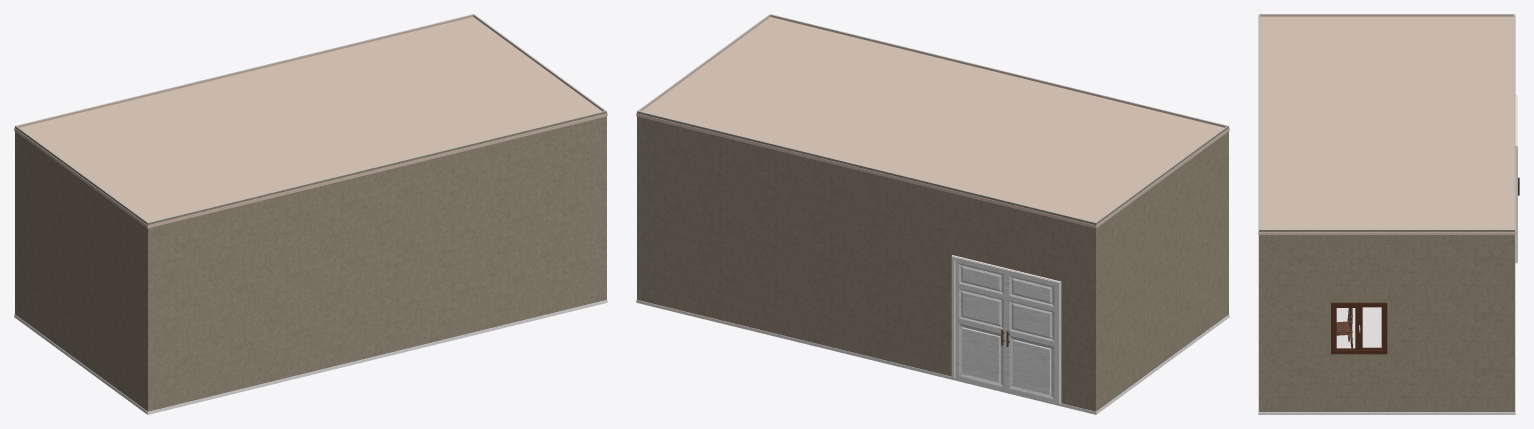
Rendered from ProcTHOR-Train-113.glb.
3 renders of one model, left to right at view 1: azimuth 30°, elevation 25°; view 2: azimuth 150°, elevation 25°; view 3: azimuth 270°, elevation 25°, orthographic. The views are drawn at different scales.
Parts seen in each view (by area): view 1: WallInside#wall|exterior|0.00|4.13|8.26|4.13, Ceiling#room|2|c, WallInside#wall|exterior|8.26|0.00|8.26|4.13, Floor#room|2|f, WallInside#wall|2|0.00|0.00|8.26|0.00; view 2: WallInside#wall|exterior|0.00|0.00|8.26|0.00, Ceiling#room|2|c, WallInside#wall|exterior|8.26|0.00|8.26|4.13, Doorway_Door_8b, Doorway_Door_8a, Floor#room|2|f, Doorway_Double_8, WallInside#wall|2|0.00|4.13|8.26|4.13; view 3: Ceiling#room|2|c, WallInside#wall|exterior|0.00|0.00|0.00|4.13, Floor#room|2|f, Window_Slider_36x36, WallInside#wall|2|8.26|0.00|8.26|4.13, WallInside#wall|exterior|0.00|4.13|8.26|4.13, WallInside#wall|exterior|0.00|0.00|8.26|0.00, Doorway_Double_8, WallInside#wall|2|0.00|4.13|8.26|4.13, WallInside#wall|2|0.00|0.00|8.26|0.00, Chair_227_1, WallInside#wall|2|0.00|0.00|0.00|4.13 (+1 smaller).
Boxes of the visible parts, bbox=[...] form: WallInside#wall|exterior|0.00|4.13|8.26|4.13: bbox=[148, 111, 606, 411]; Ceiling#room|2|c: bbox=[14, 17, 607, 228]; WallInside#wall|exterior|8.26|0.00|8.26|4.13: bbox=[15, 126, 147, 411]; Floor#room|2|f: bbox=[14, 299, 607, 414]; WallInside#wall|2|0.00|0.00|8.26|0.00: bbox=[16, 14, 474, 127]; WallInside#wall|exterior|0.00|0.00|8.26|0.00: bbox=[637, 111, 1095, 411]; Ceiling#room|2|c: bbox=[636, 17, 1229, 228]; WallInside#wall|exterior|8.26|0.00|8.26|4.13: bbox=[1096, 126, 1228, 411]; Doorway_Door_8b: bbox=[955, 261, 1006, 389]; Doorway_Door_8a: bbox=[1006, 273, 1056, 402]; Floor#room|2|f: bbox=[636, 299, 1229, 414]; Doorway_Double_8: bbox=[951, 255, 1061, 403]; WallInside#wall|2|0.00|4.13|8.26|4.13: bbox=[770, 14, 1227, 127]; Ceiling#room|2|c: bbox=[1258, 16, 1515, 234]; WallInside#wall|exterior|0.00|0.00|0.00|4.13: bbox=[1259, 229, 1514, 411]; Floor#room|2|f: bbox=[1258, 235, 1515, 414]; Window_Slider_36x36: bbox=[1331, 302, 1387, 354]; WallInside#wall|2|8.26|0.00|8.26|4.13: bbox=[1260, 14, 1514, 16]; WallInside#wall|exterior|0.00|4.13|8.26|4.13: bbox=[1258, 14, 1259, 411]; WallInside#wall|exterior|0.00|0.00|8.26|0.00: bbox=[1514, 14, 1515, 411]; Doorway_Double_8: bbox=[1515, 95, 1517, 263]; WallInside#wall|2|0.00|4.13|8.26|4.13: bbox=[1259, 14, 1260, 229]; WallInside#wall|2|0.00|0.00|8.26|0.00: bbox=[1513, 14, 1514, 229]; Chair_227_1: bbox=[1336, 308, 1352, 348]; WallInside#wall|2|0.00|0.00|0.00|4.13: bbox=[1260, 229, 1514, 229].
Size of what is drawn, in the model's own units: 8.32 by 3.3 by 4.24.
Materials: 90 (40 with a texture image).
